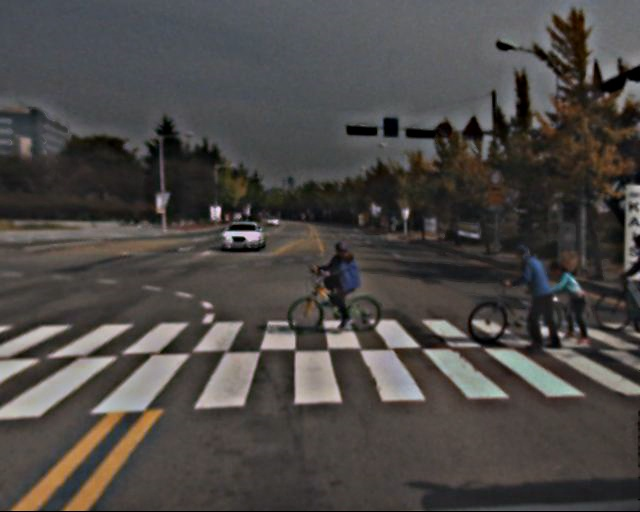person: (511, 245, 556, 355), (554, 259, 589, 344), (328, 244, 362, 327)
